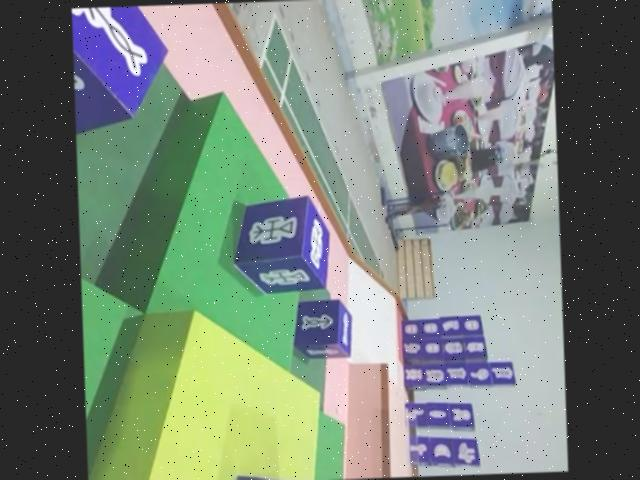R2 Real Blue: (72, 6, 168, 129), (229, 192, 331, 293), (292, 299, 355, 361)
